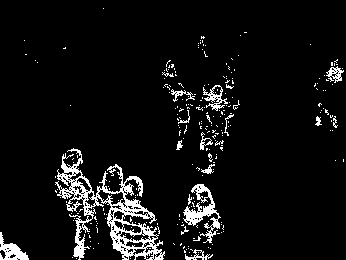person: (108, 174, 164, 260), (57, 148, 100, 257), (180, 182, 223, 260), (197, 85, 233, 177), (162, 60, 194, 152), (96, 161, 124, 252)
